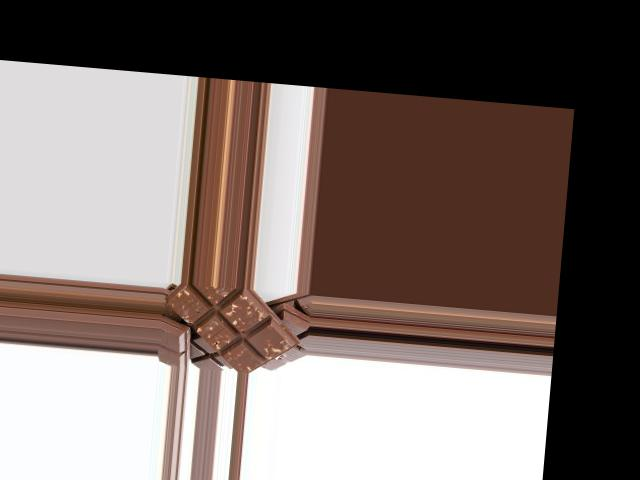chocolate: (161, 281, 294, 375)
